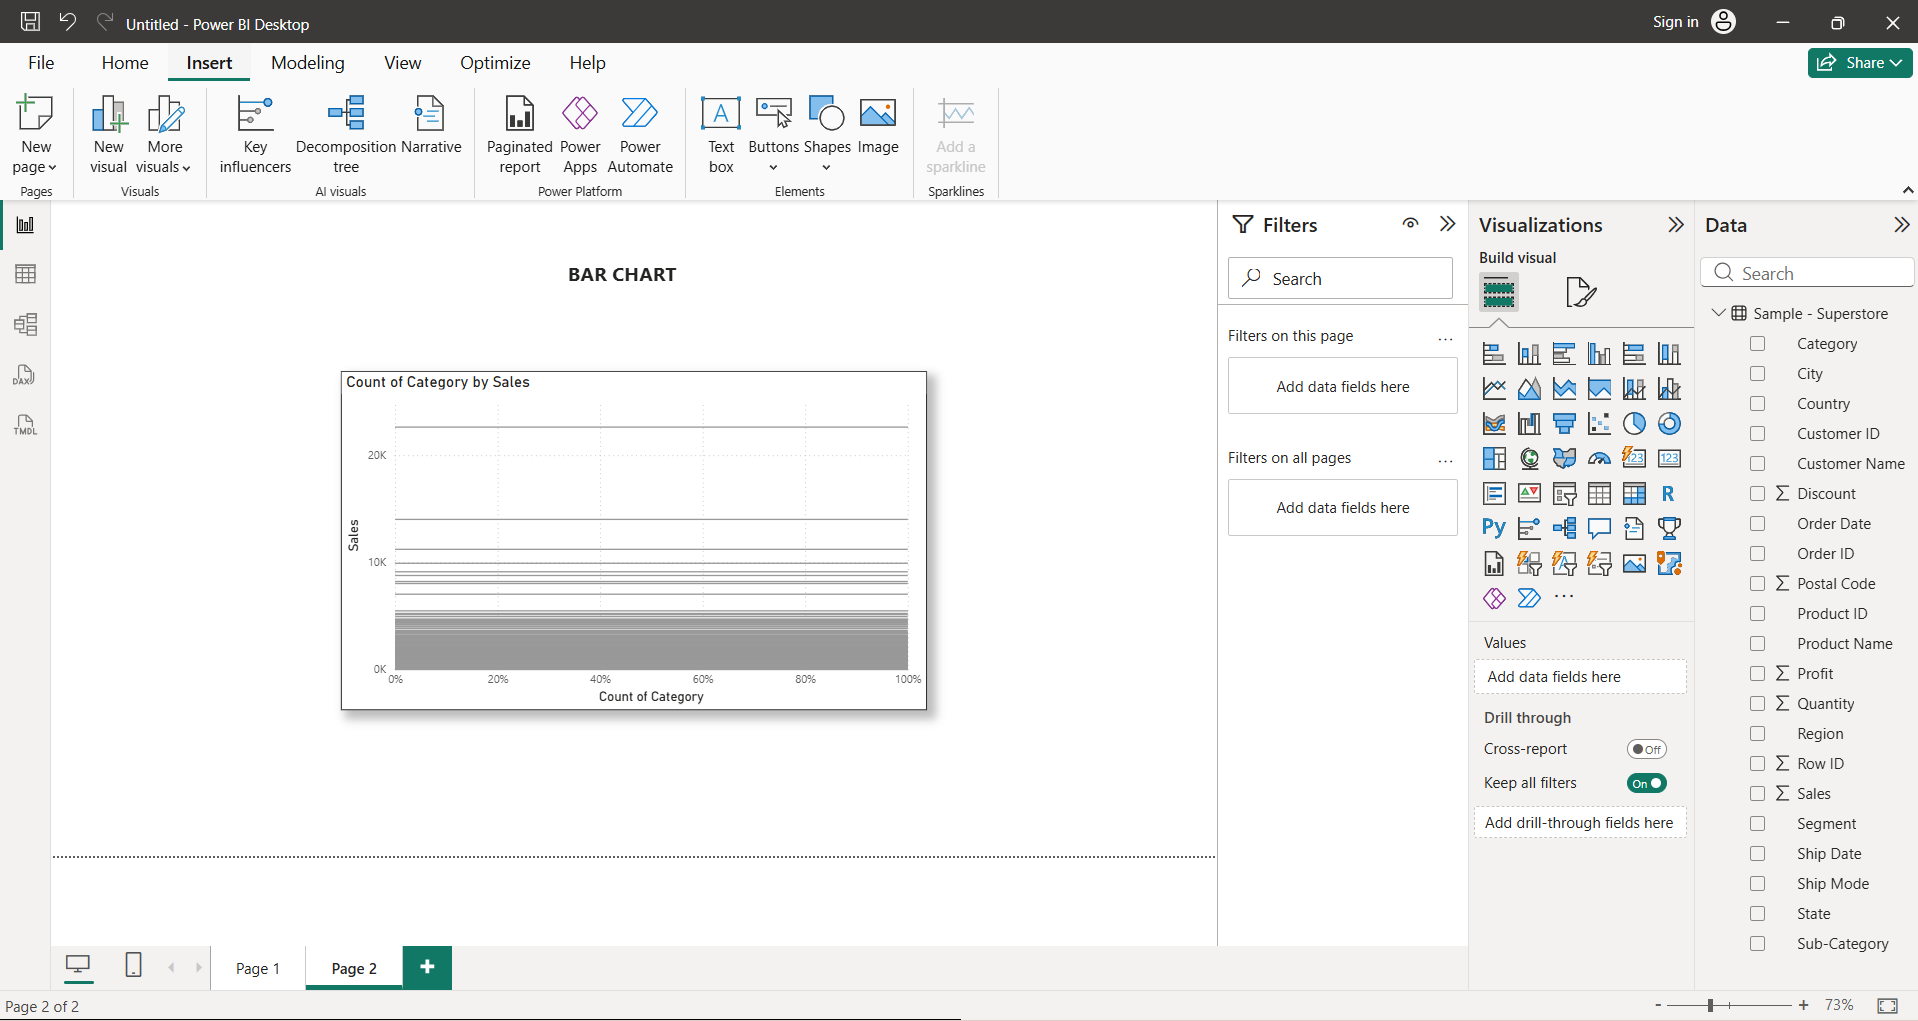

What the dashboard file says about the page in this screenshot:
{"tool":"powerbi","page":{"name":"Page 3","canvas":[1280,720],"ordinal":2},"visuals":[{"type":"hundredPercentStackedBarChart","fields":{"Y":["CountNonNull(Sample - Superstore.Category)"],"Category":["Sample - Superstore.Sales"]},"box":[285.9,183.1,690.1,401.4],"z":0},{"type":"textbox","box":[593,83.1,400,123.9],"z":1000}]}

Visuals, with their boxes on the page's 1280x720 design canvas (x1, y1, x2, y2). These are canvas units, not pixel positions in the 1918x1021 screenshot, which may show the page scaled, cropped or inside an application window:
hundredPercentStackedBarChart - CountNonNull(Sample - Superstore.Category) x Sample - Superstore.Sales: [x1=286, y1=183, x2=976, y2=584]
textbox: [x1=593, y1=83, x2=993, y2=207]
